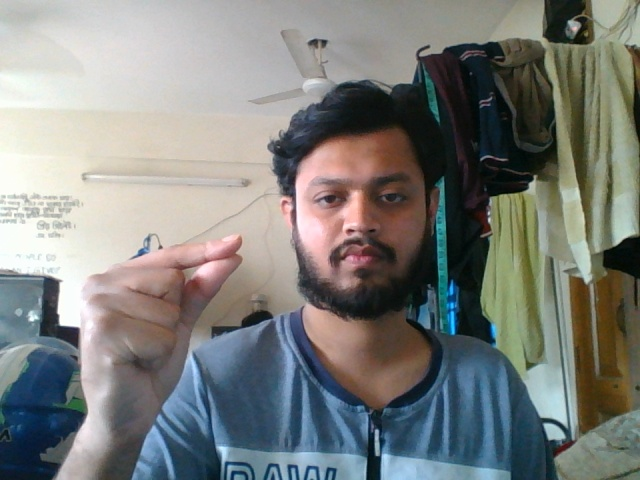onushhar: (68, 231, 250, 401)
